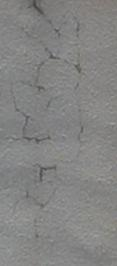fissura: (7, 1, 89, 242)
